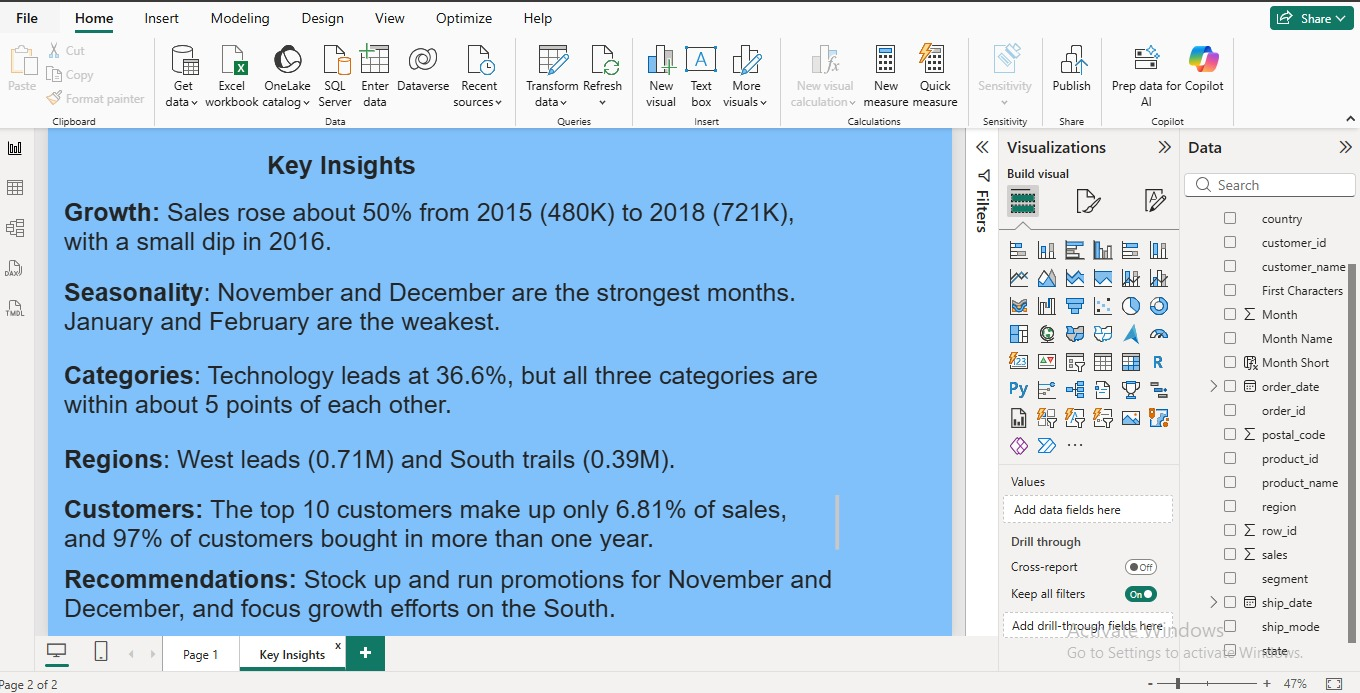

The dashboard page shown, as its layout file describes it:
{"tool":"powerbi","page":{"name":"Key Insights","canvas":[1920,1080],"ordinal":1},"visuals":[{"type":"textbox","box":[225.4,48.9,797.2,99.9],"z":0},{"type":"textbox","box":[34,148.8,1647.6,142.4],"z":1},{"type":"textbox","box":[34,318.9,1647.6,148.8],"z":2},{"type":"textbox","box":[34,495.4,1647.6,142.4],"z":3},{"type":"textbox","box":[34,673.9,1647.6,82.9],"z":4},{"type":"textbox","box":[34,780.2,1647.6,119.1],"z":5},{"type":"textbox","box":[34,929.1,1647.6,125.4],"z":6}]}

Visuals, with their boxes on the page's 1920x1080 design canvas (x1, y1, x2, y2). These are canvas units, not pixel positions in the 1360x693 screenshot, which may show the page scaled, cropped or inside an application window:
textbox: (225,49,1023,149)
textbox: (34,149,1682,291)
textbox: (34,319,1682,468)
textbox: (34,495,1682,638)
textbox: (34,674,1682,757)
textbox: (34,780,1682,899)
textbox: (34,929,1682,1054)
